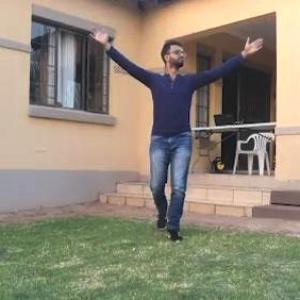takeoff: (72, 17, 268, 231)
